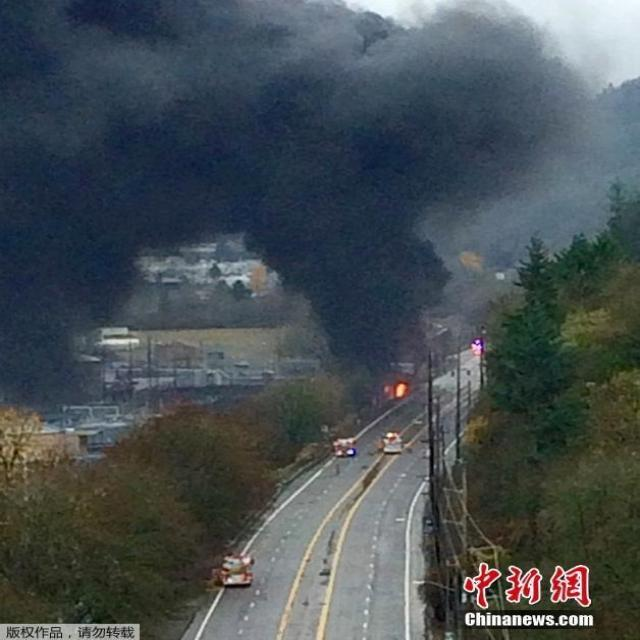Fire: (393, 382, 409, 398)
Smoke: (0, 1, 602, 412)
